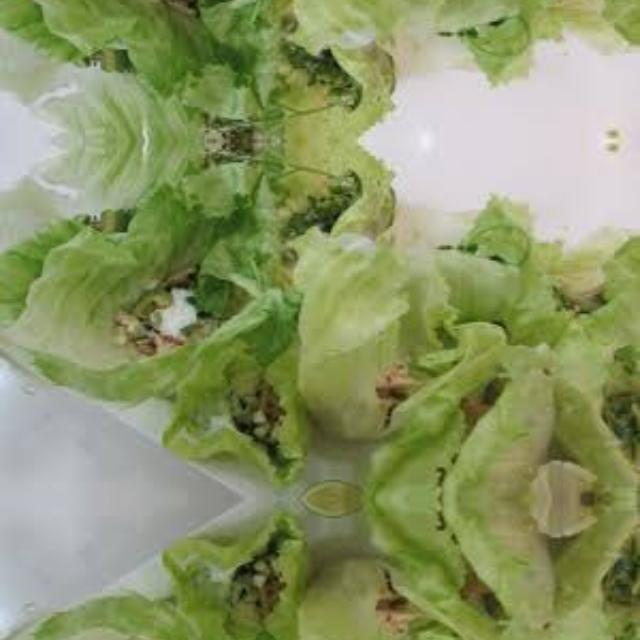Downy_mildew: (202, 240, 422, 492), (20, 180, 236, 418), (477, 177, 639, 473), (201, 505, 422, 640), (20, 0, 236, 100), (477, 524, 639, 640), (477, 0, 639, 103), (20, 579, 236, 640), (201, 0, 422, 40)
